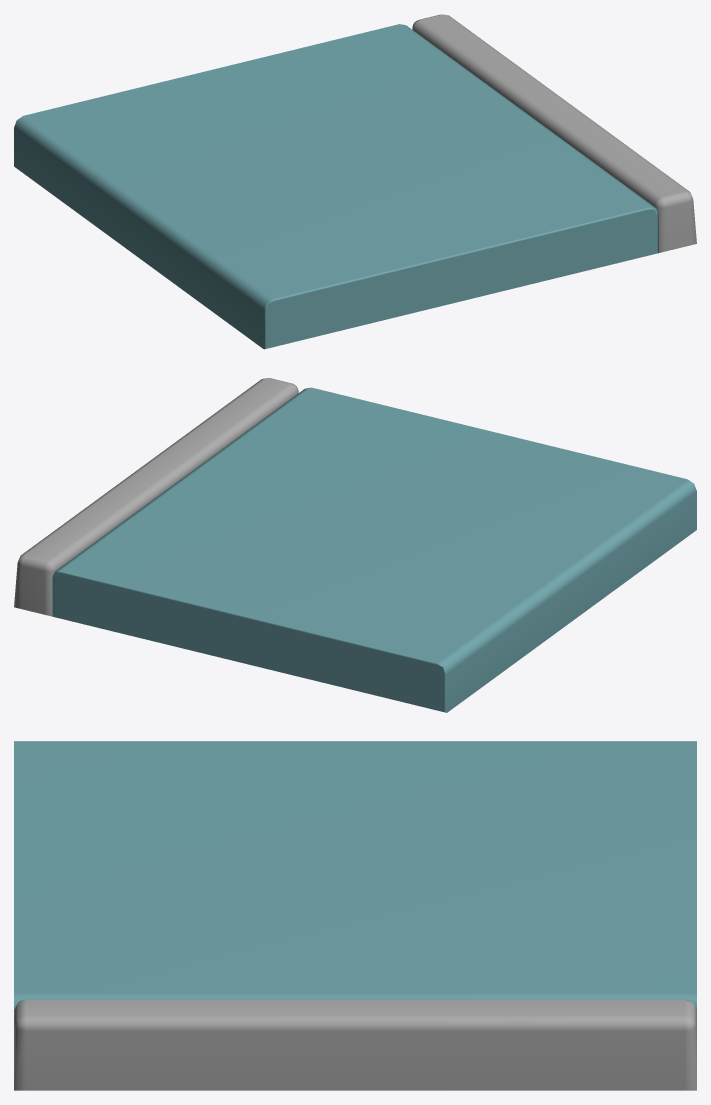
File: obj_street_sidewalk_01.fbx
3 views of the same model, one above another, from view 1: azimuth 30°, elevation 25°; view 2: azimuth 150°, elevation 25°; view 3: azimuth 270°, elevation 25° (orthographic). The views are drawn at different scales.
Parts seen in each view (by area): view 1: obj_street_sidewalk_02; view 2: obj_street_sidewalk_02; view 3: obj_street_sidewalk_02.
Part boxes in pixels (x1,y1,x2,y2): obj_street_sidewalk_02: (14,14,696,349); obj_street_sidewalk_02: (14,378,696,712); obj_street_sidewalk_02: (14,741,696,1090).
Size of the model in its own units: 56 by 6.36 by 56.
